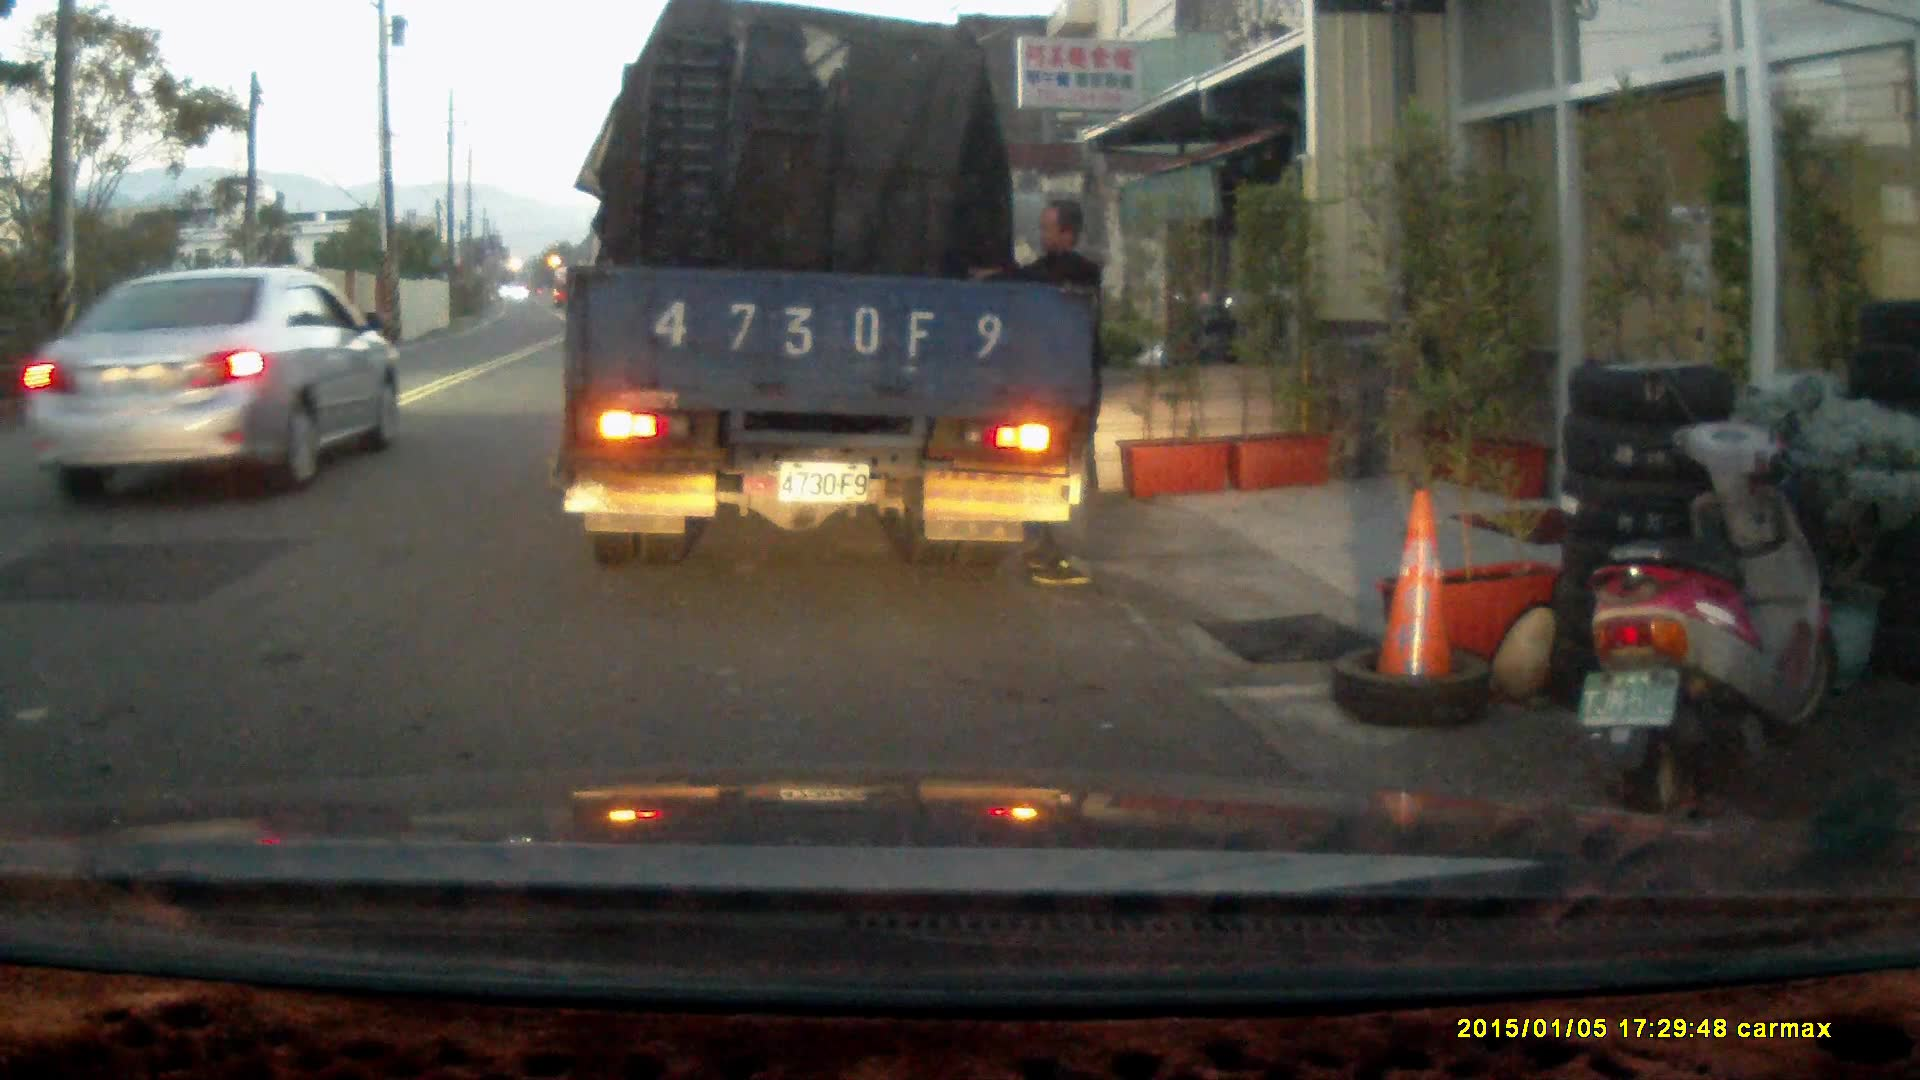pedestrian: (968, 198, 1104, 585)
vehicle: (565, 23, 1097, 572), (12, 266, 396, 501)
